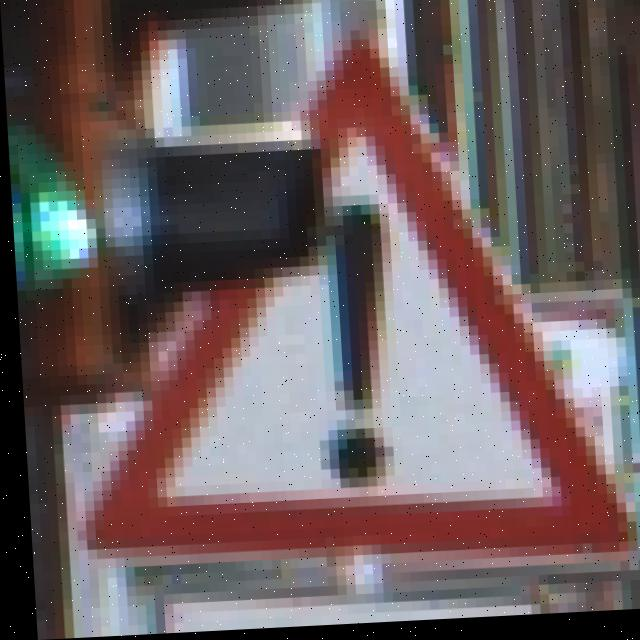warning: (147, 143, 634, 577)
